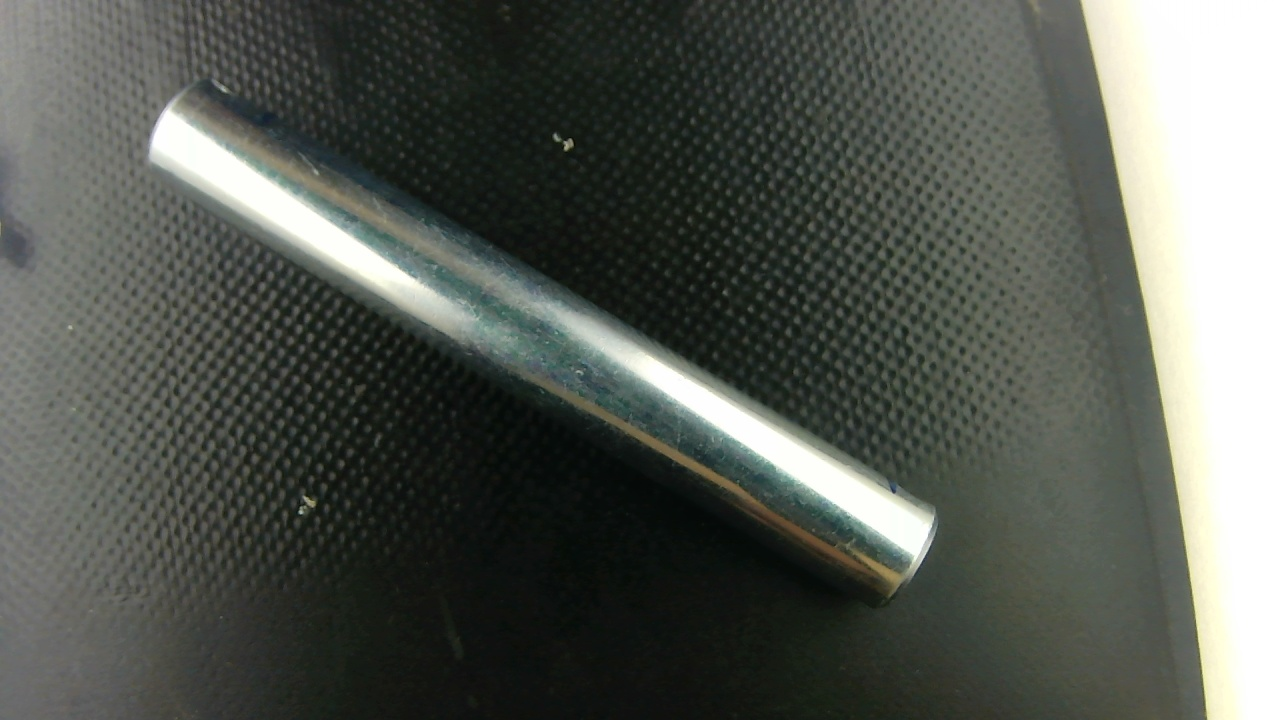Okay_Pin: (148, 81, 935, 601)
